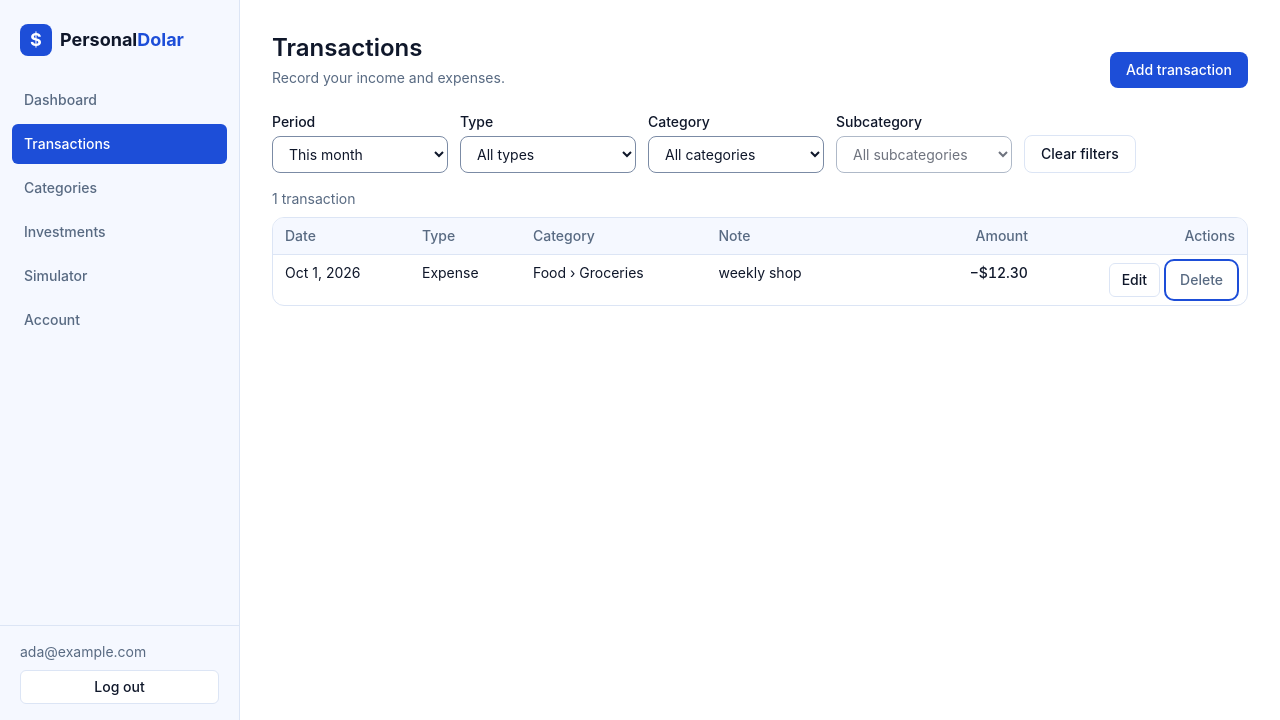
Test: Delete transaction › shows "No transactions yet." after deleting the last transaction
This screenshot has width=1280, height=720.
Check: the table named "Transactions" is shown, box [273,218,1247,305]
Click the button with aria-label "Delete Food › Groceries, Oct 1, 2026, −$12.30" at (1202, 280), box [1168,263,1235,297]
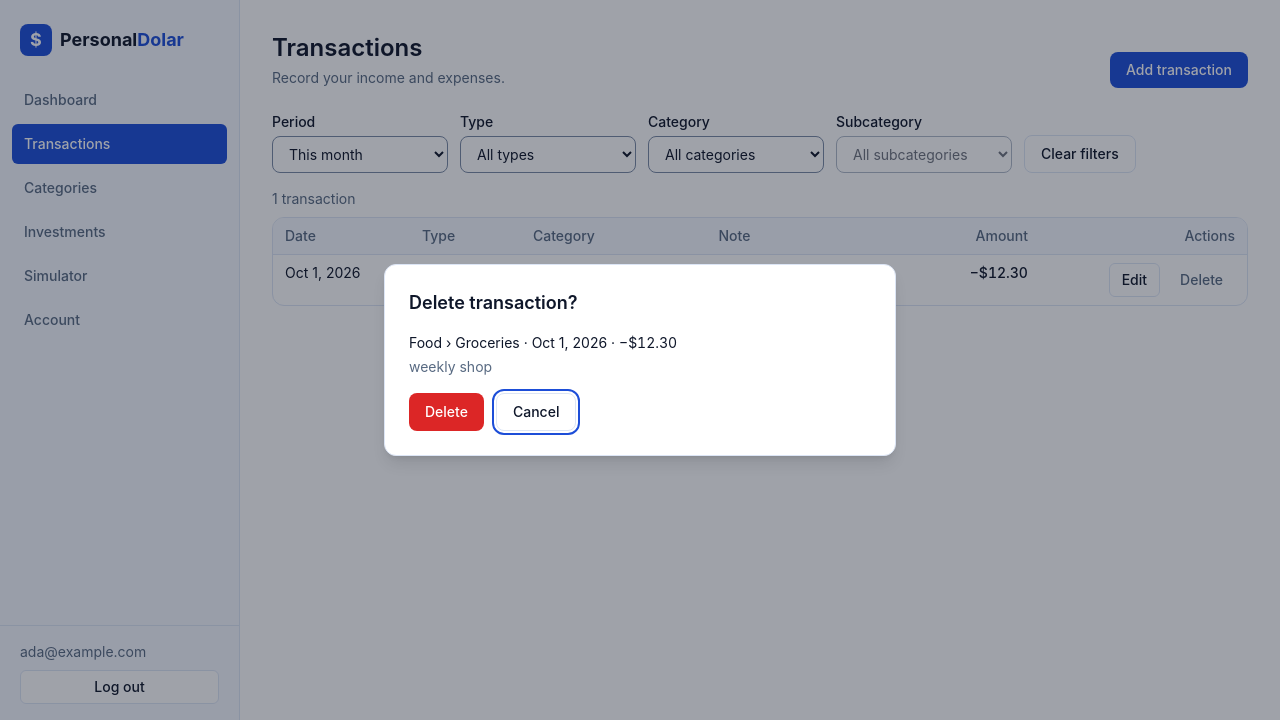
Click the button "Delete" at (446, 412), box [409,393,484,431]
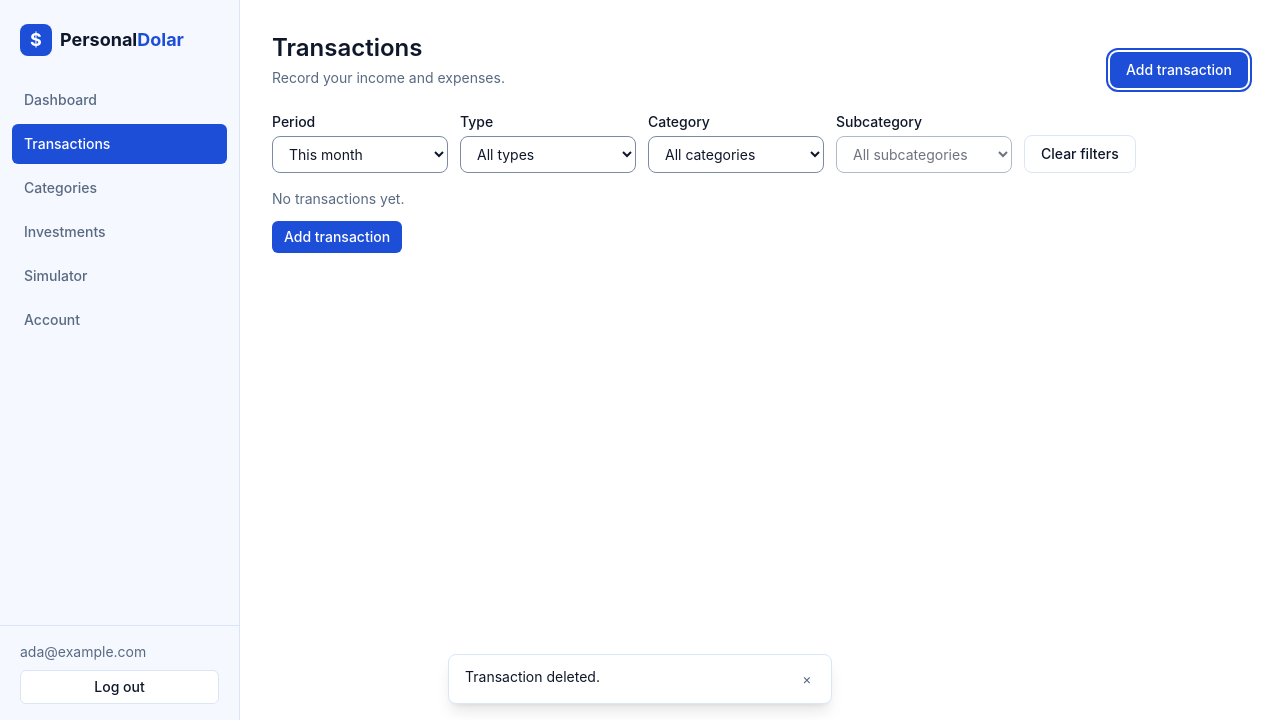
Check: the text "No transactions yet." is shown, box [272,189,404,209]
Check: the text "Transaction deleted." is shown, box [465,668,600,685]
Check: the table is gone
